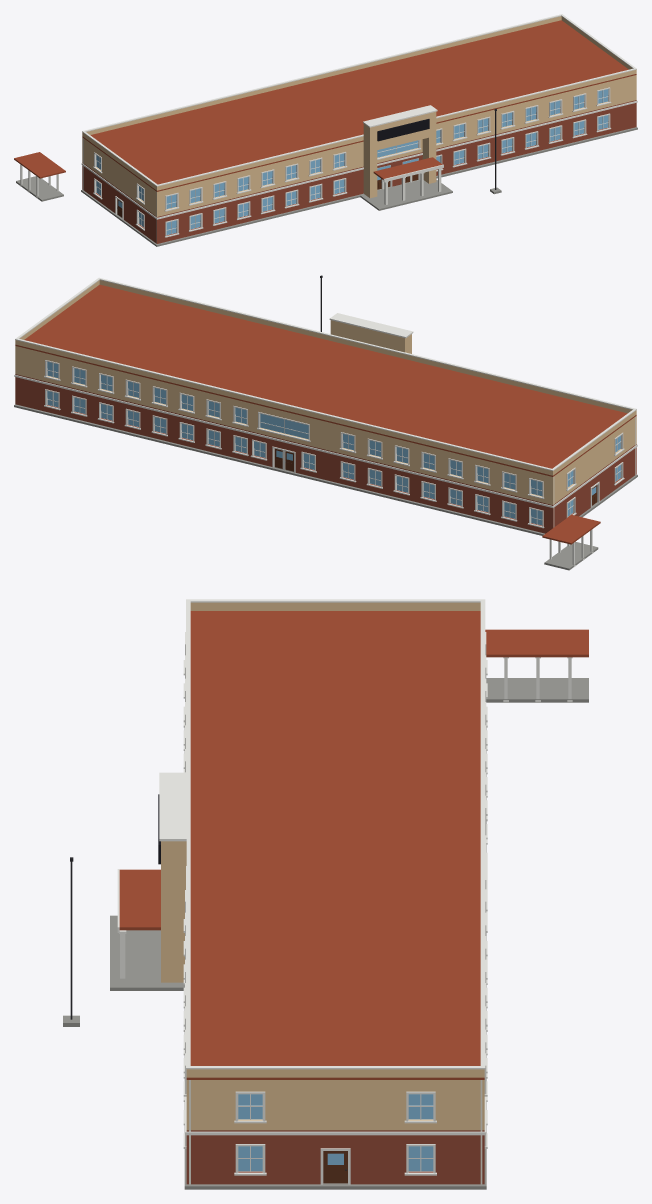
Rendered from SchoolMain.glb.
3 views of the same model, one above another, from view 1: azimuth 30°, elevation 25°; view 2: azimuth 150°, elevation 25°; view 3: azimuth 270°, elevation 25° (orthographic). The views are drawn at different scales.
Parts seen in each view (by area): view 1: SchoolMain_Roof, SchoolMain_WallsOut, SchoolMain_Trim, SchoolMain_Brick, SchoolMain_Foundation, SchoolMain_Glass, SchoolMain_Sign; view 2: SchoolMain_Roof, SchoolMain_WallsOut, SchoolMain_Trim, SchoolMain_Brick, SchoolMain_Glass, SchoolMain_Foundation; view 3: SchoolMain_Roof, SchoolMain_WallsOut, SchoolMain_Trim, SchoolMain_Brick, SchoolMain_Foundation, SchoolMain_Glass.
Part boxes in pixels (bbox=[...]): SchoolMain_Roof: bbox=[14, 20, 636, 191]; SchoolMain_WallsOut: bbox=[82, 16, 636, 216]; SchoolMain_Trim: bbox=[19, 14, 637, 237]; SchoolMain_Brick: bbox=[82, 100, 636, 243]; SchoolMain_Foundation: bbox=[16, 127, 637, 246]; SchoolMain_Glass: bbox=[96, 89, 608, 228]; SchoolMain_Sign: bbox=[377, 119, 429, 141]; SchoolMain_Roof: bbox=[15, 284, 636, 544]; SchoolMain_WallsOut: bbox=[15, 280, 636, 504]; SchoolMain_Trim: bbox=[14, 277, 637, 566]; SchoolMain_Brick: bbox=[15, 374, 636, 533]; SchoolMain_Glass: bbox=[47, 361, 620, 517]; SchoolMain_Foundation: bbox=[14, 404, 637, 570]; SchoolMain_Roof: bbox=[119, 611, 588, 1079]; SchoolMain_WallsOut: bbox=[161, 602, 484, 1130]; SchoolMain_Trim: bbox=[117, 599, 572, 1184]; SchoolMain_Brick: bbox=[186, 1130, 484, 1184]; SchoolMain_Foundation: bbox=[63, 678, 588, 1189]; SchoolMain_Glass: bbox=[238, 1094, 433, 1157].
Bounding box in the file's own units: 284 × 42.8 × 123.
